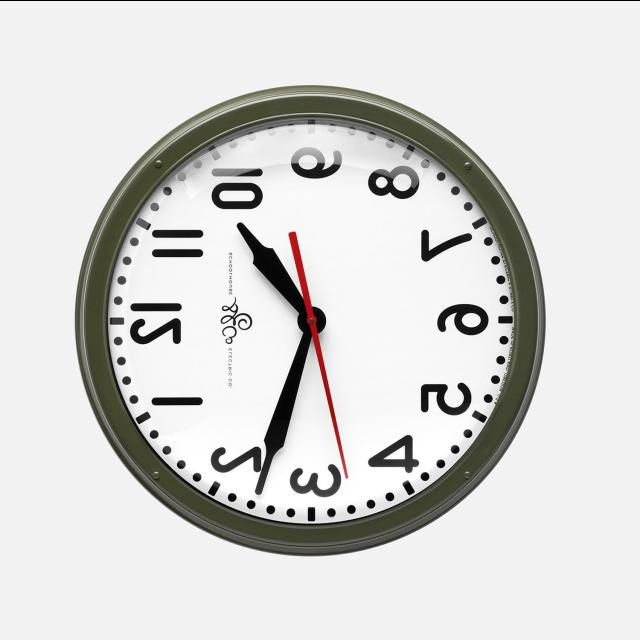clock: (42, 90, 540, 548)
